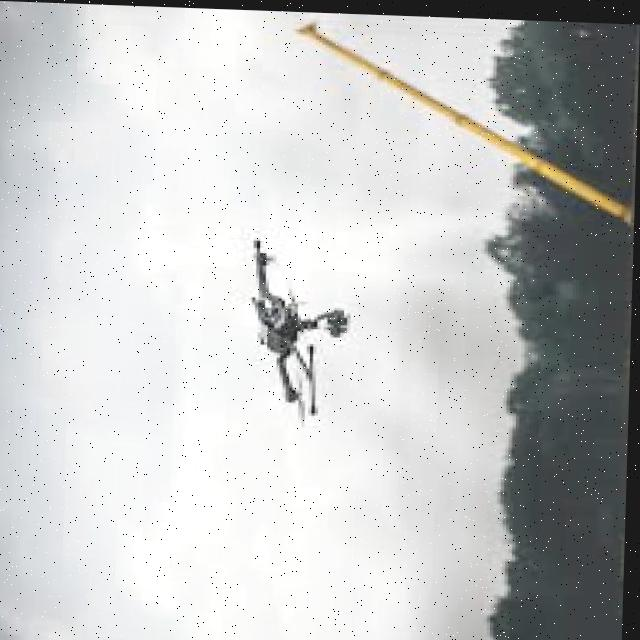drone: (219, 227, 366, 427)
